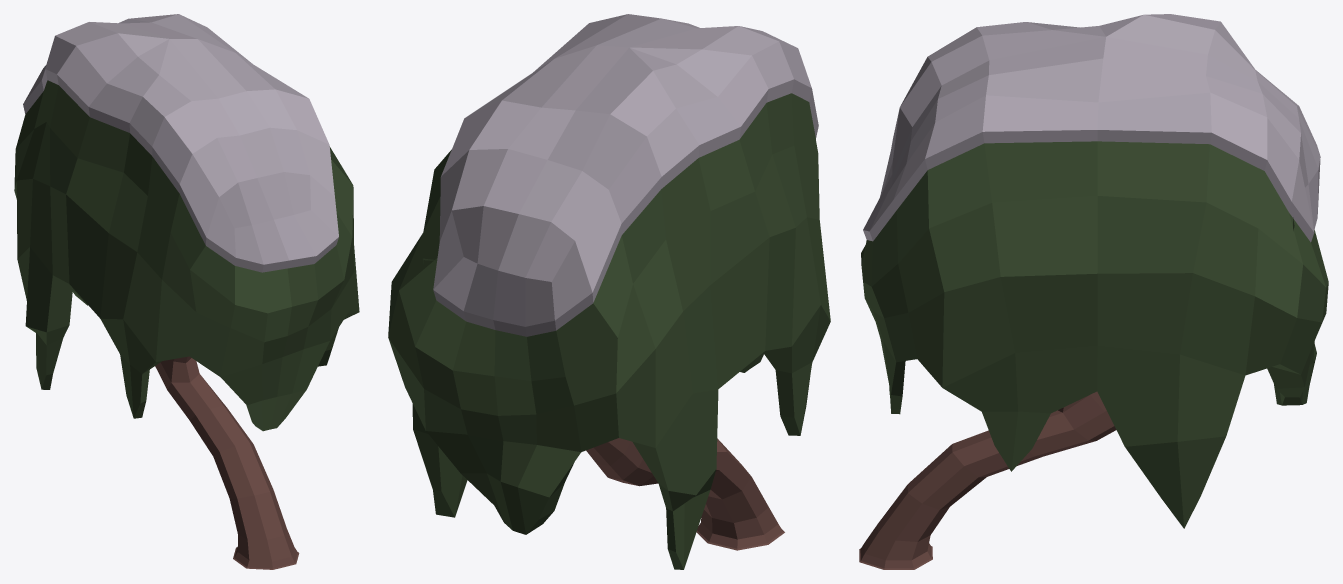
The model's file is Willow_Snow_3.glb.
The picture shows the model from 3 angles, left to right: view 1: azimuth 30°, elevation 25°; view 2: azimuth 150°, elevation 25°; view 3: azimuth 270°, elevation 25°; orthographic projection. The views are drawn at different scales.
Visible parts, largest first — view 1: Willow_Snow_3_Cube.143; view 2: Willow_Snow_3_Cube.143; view 3: Willow_Snow_3_Cube.143.
Boxes of the visible parts, x1,y1,x2,y2 form: Willow_Snow_3_Cube.143: (14, 14, 359, 569); Willow_Snow_3_Cube.143: (388, 14, 830, 569); Willow_Snow_3_Cube.143: (859, 14, 1328, 569).
Bounding box in the file's own units: 1.32 × 2.41 × 1.98.
